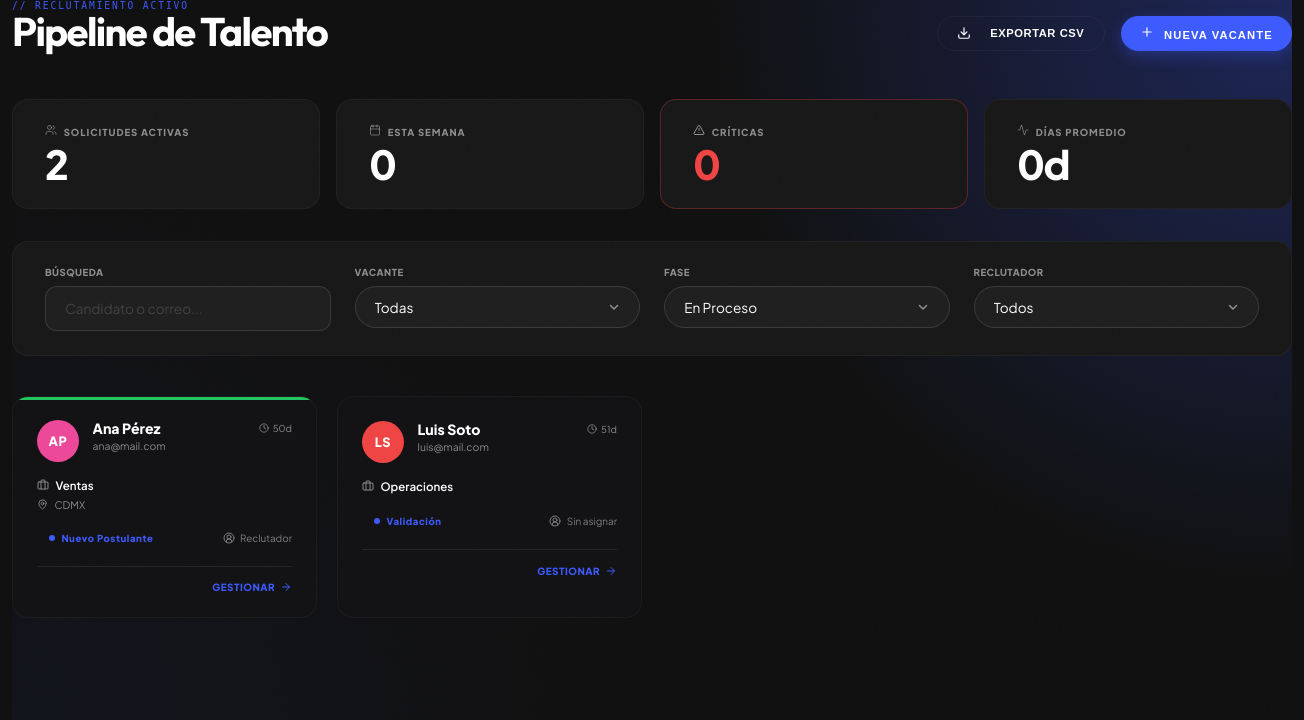
Test: CrmDashboard › filtro de vacante filtra por job
The image size is (1304, 720).
Expected: the text "Ana Pérez" is shown, [93,419,160,437]
Select "Operaciones" in the dropdown labelled "Vacante" at (497, 307), box [354,286,640,328]
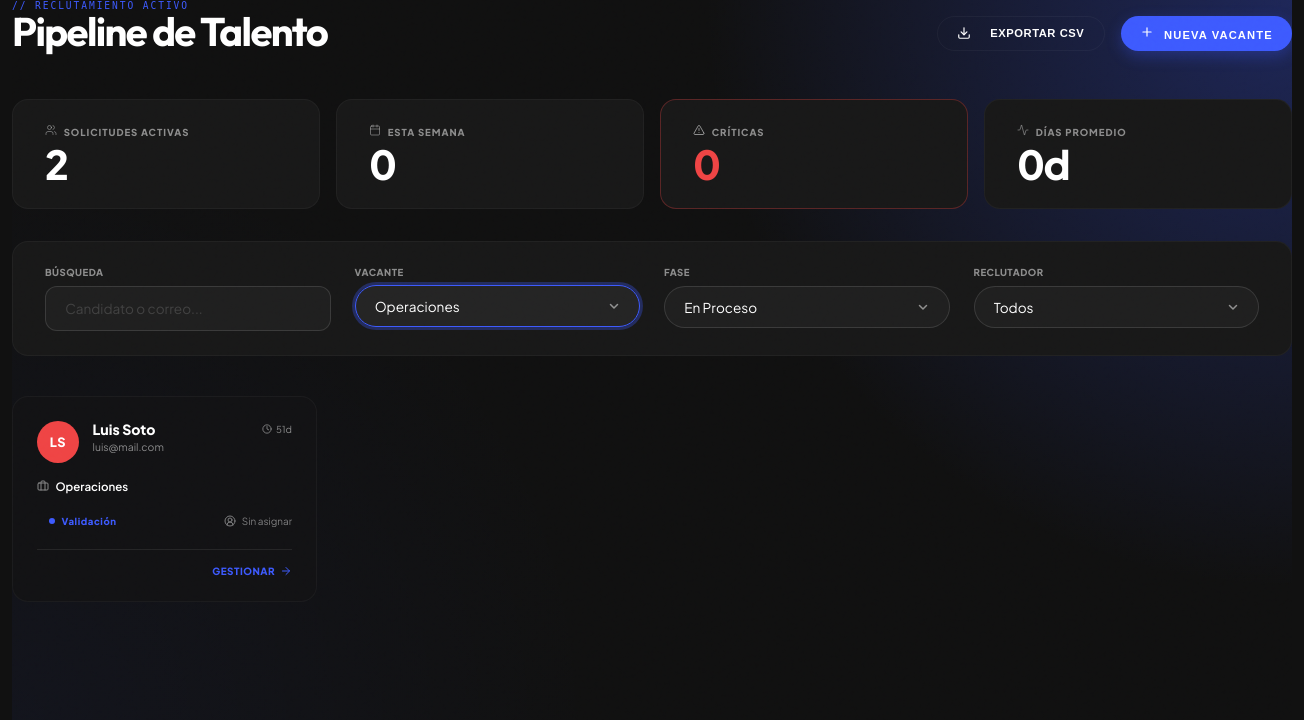
Expected: the text "Luis Soto" is shown, [93,420,155,438]
Now the link "Ana Pérez" is gone
